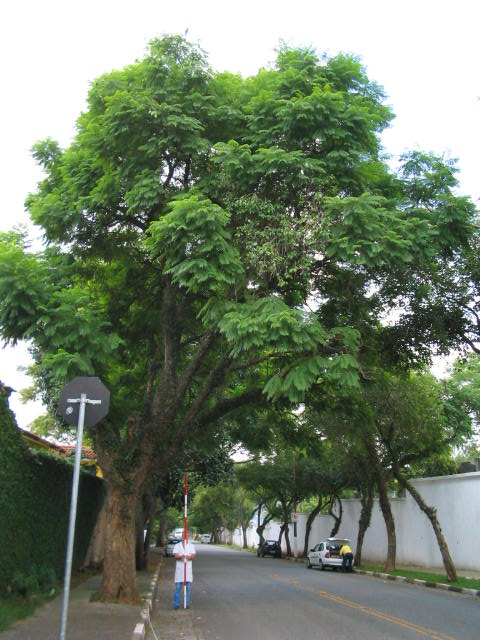crown: (4, 24, 466, 467)
stem: (87, 483, 154, 605)
stick: (177, 472, 194, 609)
tree: (2, 24, 468, 606)
